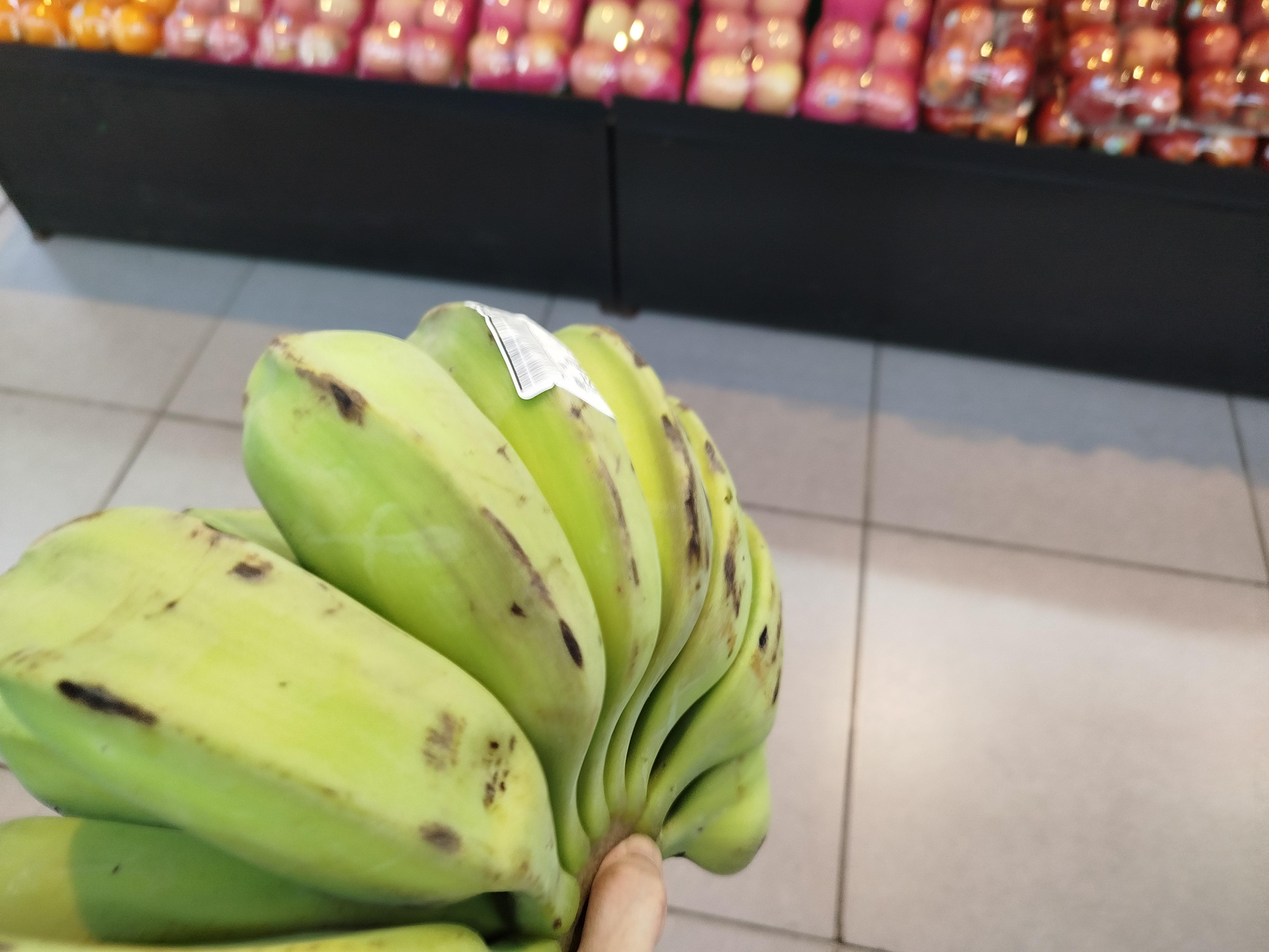underripe: (0, 301, 784, 952)
